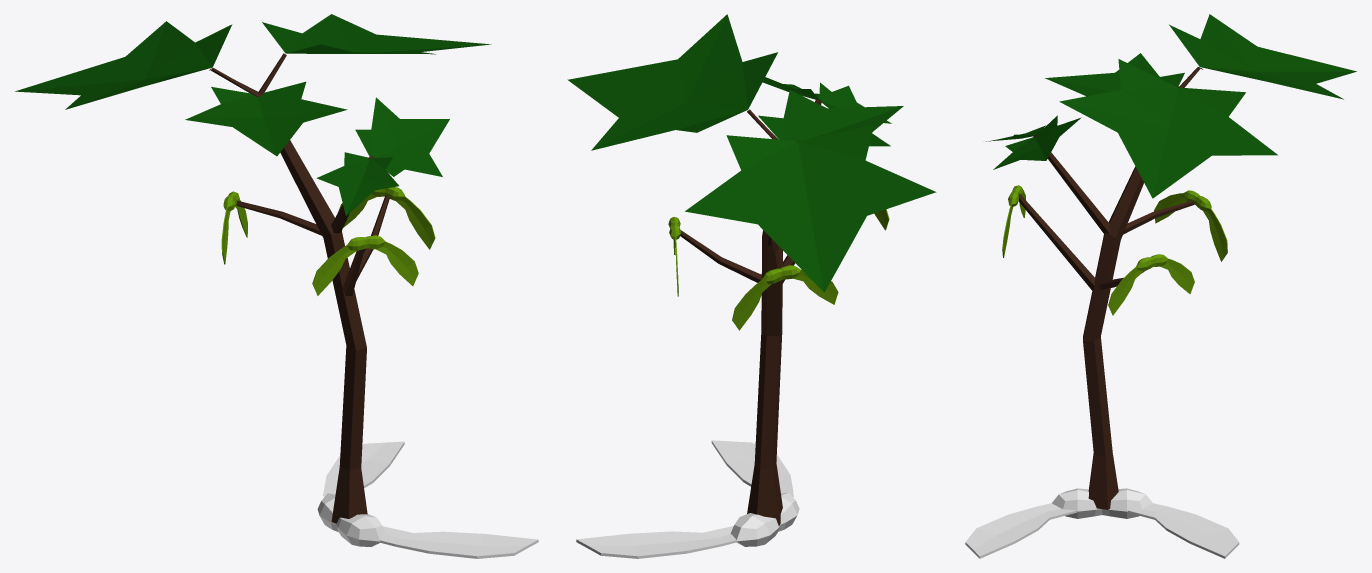
The model's file is Maple Thrower.fbx.
3 renders of one model, left to right at view 1: azimuth 30°, elevation 25°; view 2: azimuth 150°, elevation 25°; view 3: azimuth 270°, elevation 25°, orthographic. The views are drawn at different scales.
Parts seen in each view (by area): view 1: Cylinder.001, throwing seed.003; view 2: Cylinder.001, throwing seed.003; view 3: Cylinder.001, throwing seed.003.
Boxes of the visible parts, box(x1,y1,x2,y2) form: Cylinder.001: box(15, 14, 491, 523); throwing seed.003: box(317, 441, 538, 558); Cylinder.001: box(567, 14, 936, 525); throwing seed.003: box(576, 440, 799, 558); Cylinder.001: box(986, 14, 1356, 509); throwing seed.003: box(965, 488, 1239, 558).
Bounding box in the file's own units: 263 × 311 × 246.
